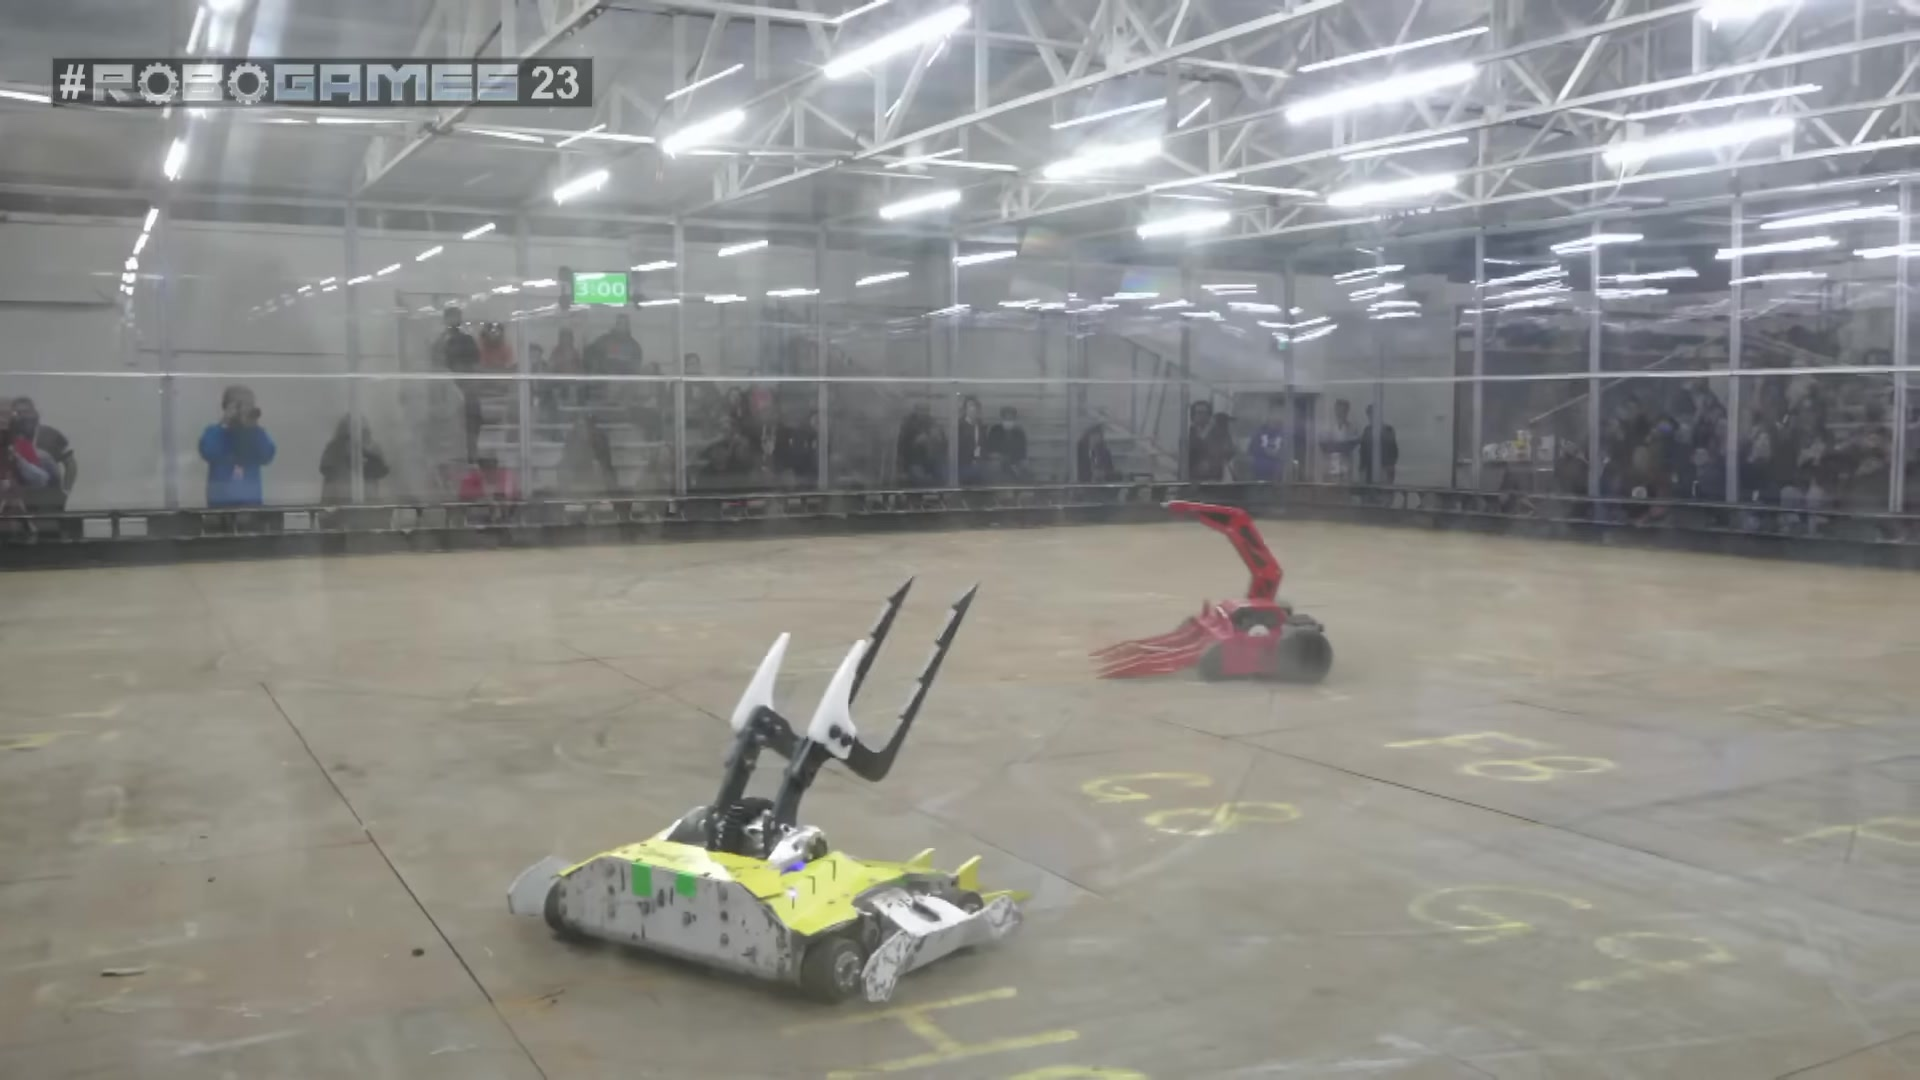combatbot: (502, 634, 1031, 1000), (1093, 497, 1325, 683)
